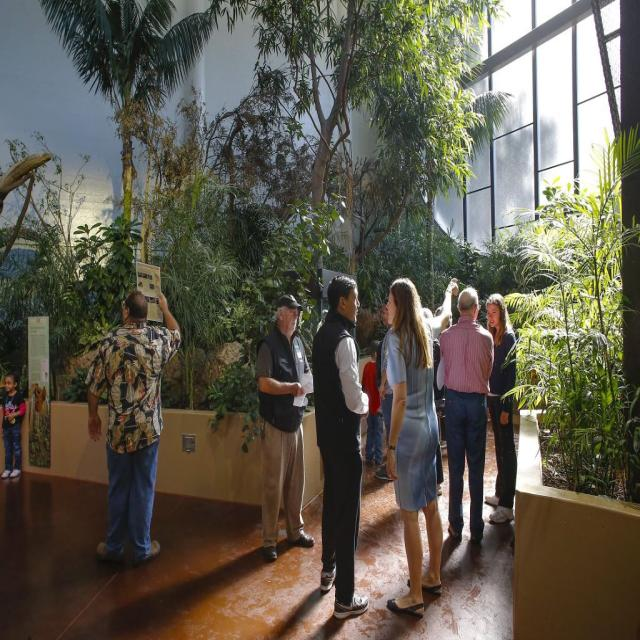body: (84, 288, 182, 566), (384, 276, 460, 620), (310, 272, 372, 620), (254, 291, 317, 561), (438, 287, 496, 545), (484, 291, 518, 525), (419, 305, 446, 497), (374, 297, 394, 481), (0, 370, 28, 479), (361, 342, 384, 469), (435, 302, 452, 334)
